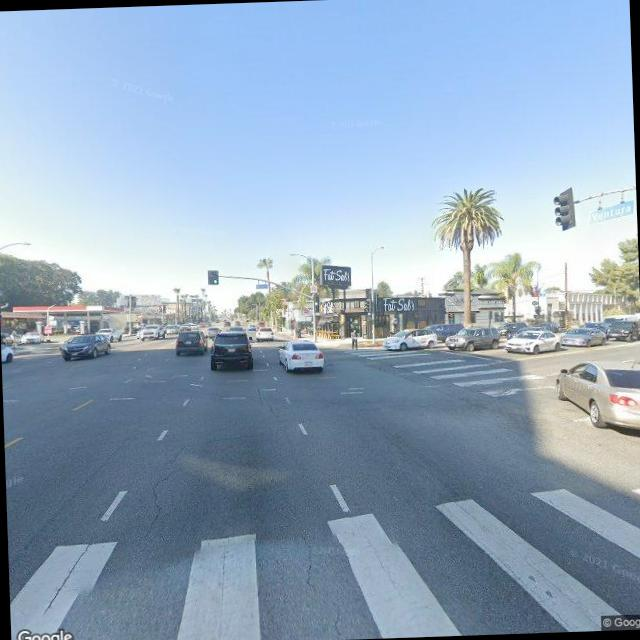pothole: (290, 506, 354, 640), (138, 454, 184, 539)
